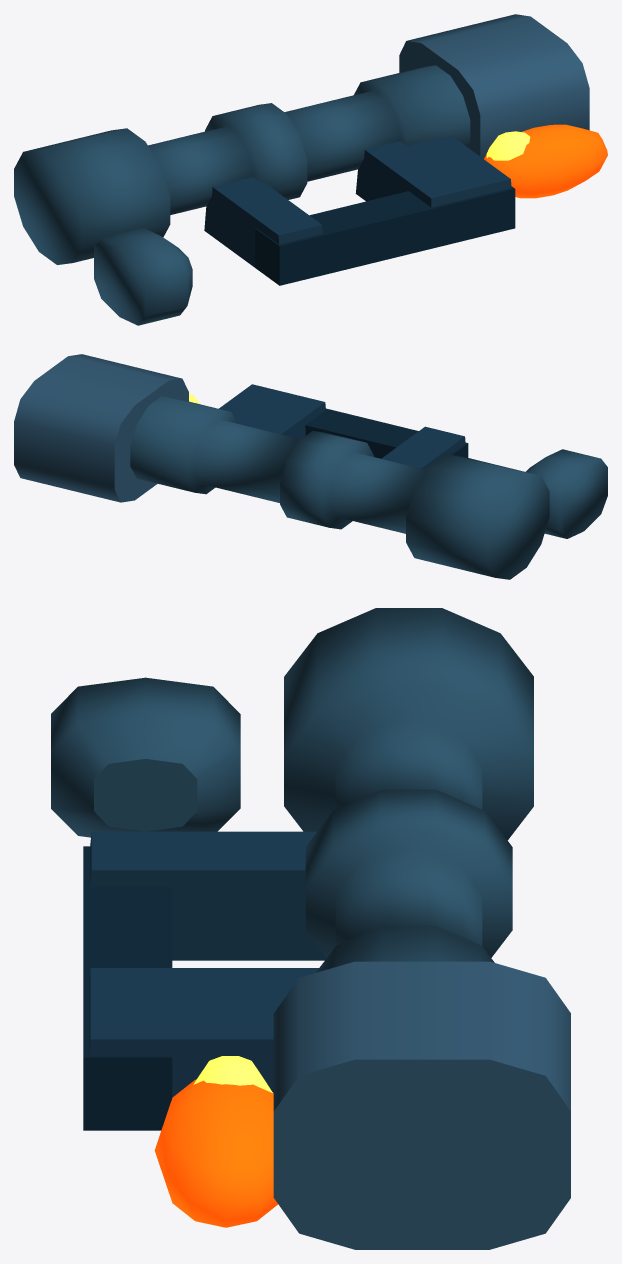
File: newshc-273.glb
3 views of the same model, one above another, from view 1: azimuth 30°, elevation 25°; view 2: azimuth 150°, elevation 25°; view 3: azimuth 270°, elevation 25° (orthographic). The views are drawn at different scales.
Visible parts, largest first — view 1: newshc-273; view 2: newshc-273; view 3: newshc-273.
Boxes of the visible parts, x1,y1,x2,y2 form: newshc-273: [14, 14, 607, 325]; newshc-273: [14, 354, 607, 579]; newshc-273: [51, 608, 570, 1249].
Size of the model in its own units: 2 by 0.4125 by 0.9712.
